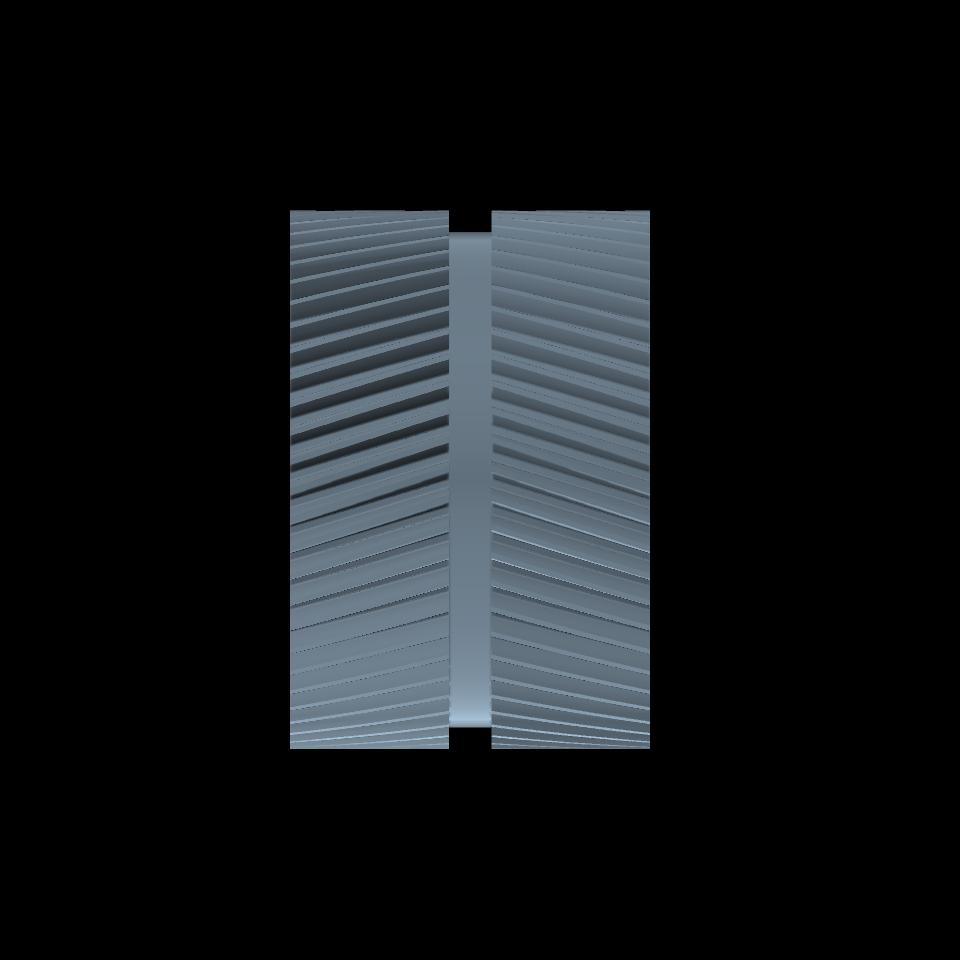Helical: (290, 210, 448, 748), (493, 211, 650, 749)
